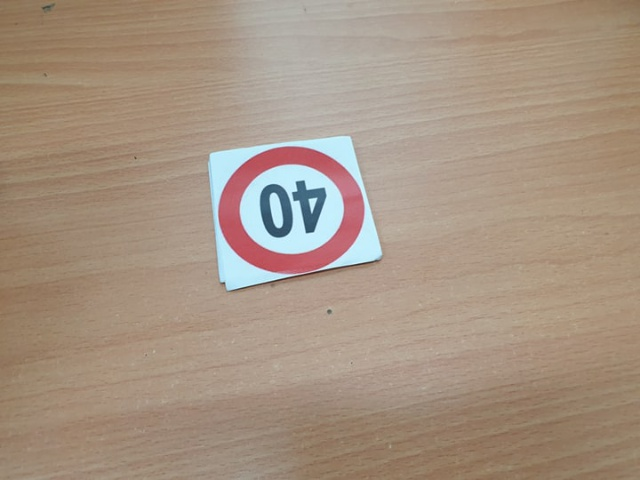Limit 40: (218, 148, 367, 274)
